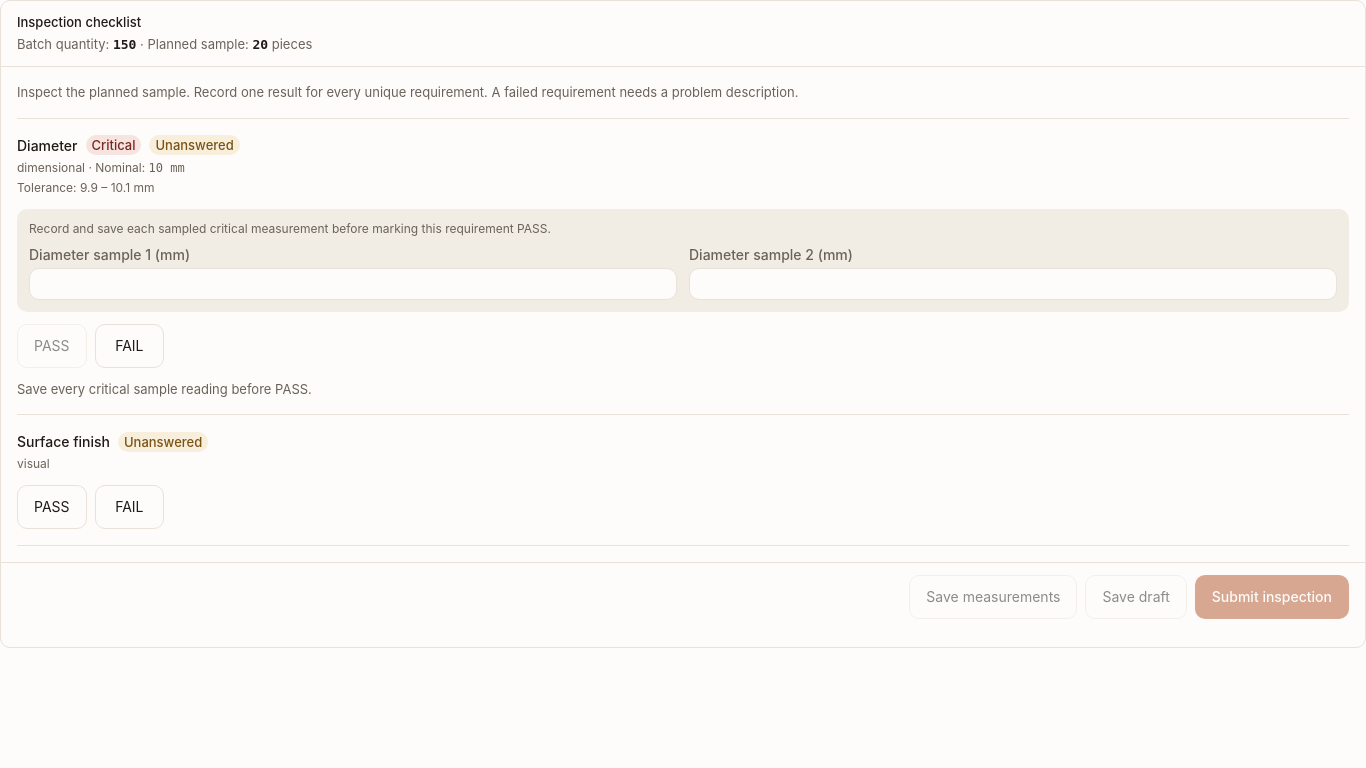
Scenario: InspectionChecklistPanel › offers one decision per unique requirement and submits only after every requirement is answered
Expected: the number of buttons "PASS " is 2, [17,324,86,368]; [17,485,86,529]
Expected: the number of buttons "FAIL " is 2, [94,324,164,368]; [94,485,164,529]
Type "10" into the number field labelled "Diameter sample 1 (mm)" at (353, 284), box [30,269,676,299]
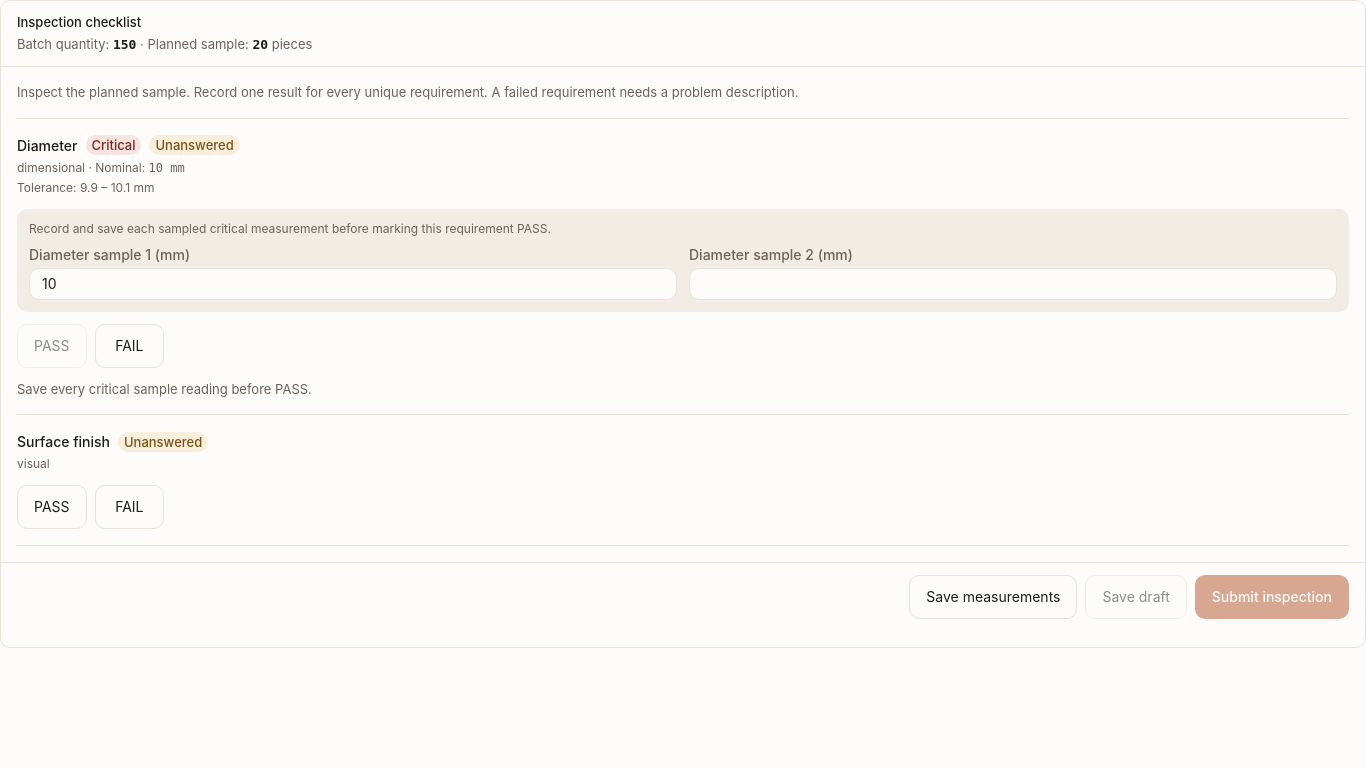
Type "10" into the number field labelled "Diameter sample 2 (mm)" at (1013, 284), box [690,269,1336,299]
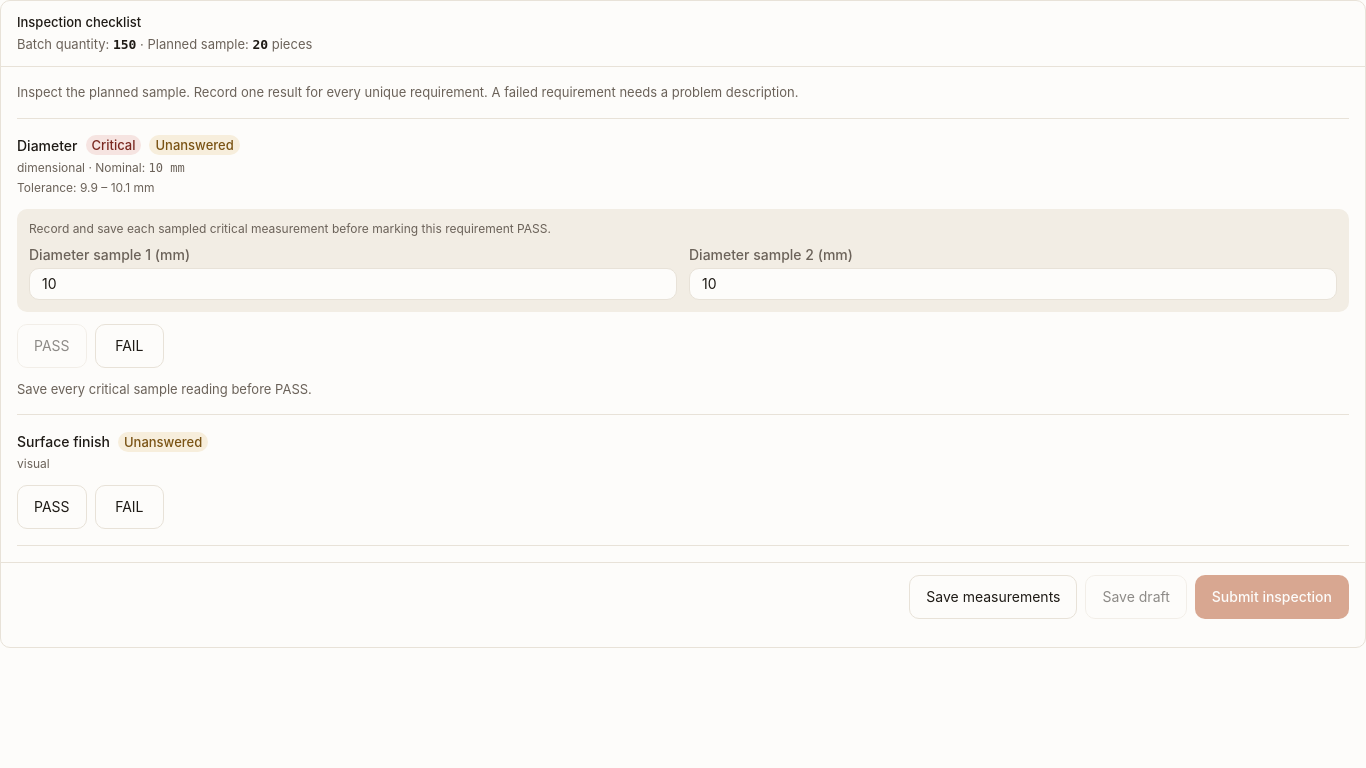
Click the button "Save measurements" at (993, 597), box [909,575,1078,619]
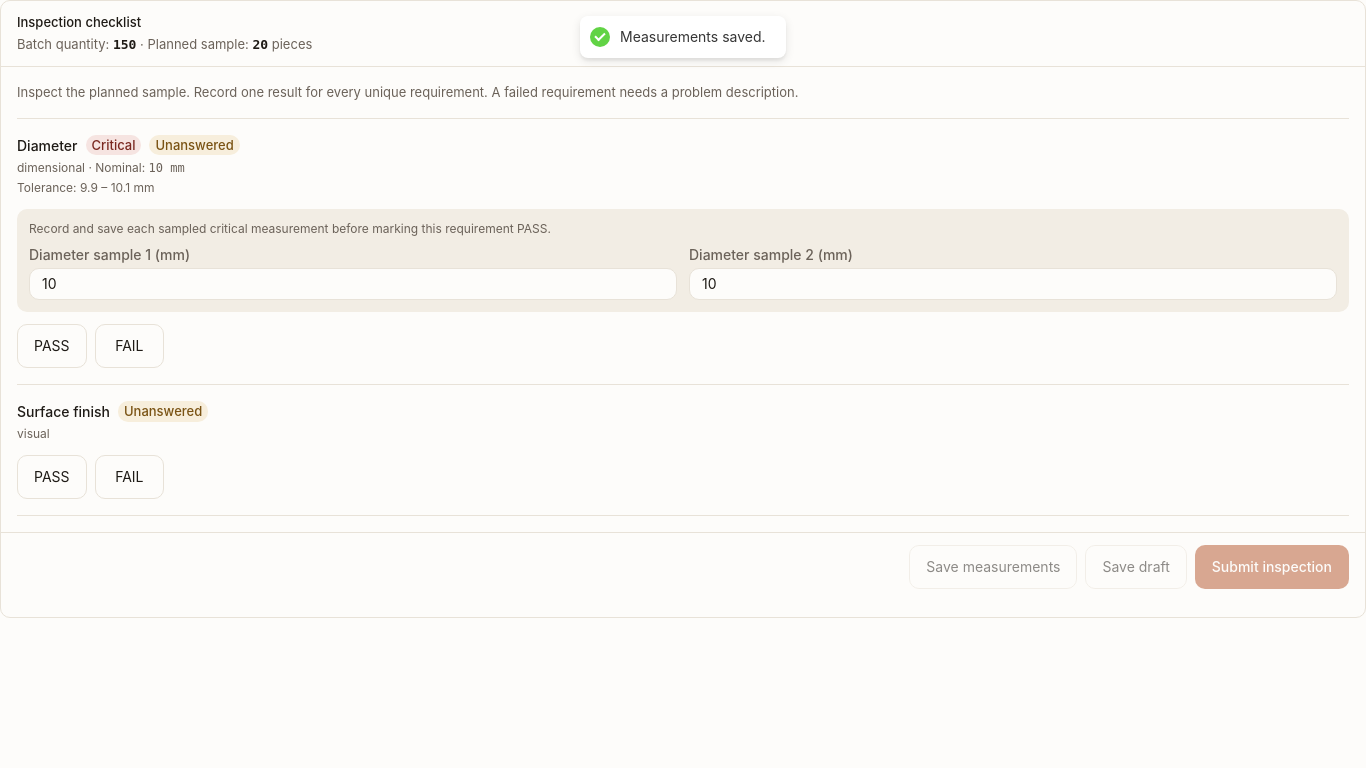
Expected: the text "Measurements saved." is shown, [620,28,766,46]
Click the button with aria-label "PASS Diameter" at (52, 346), box [17,324,86,368]
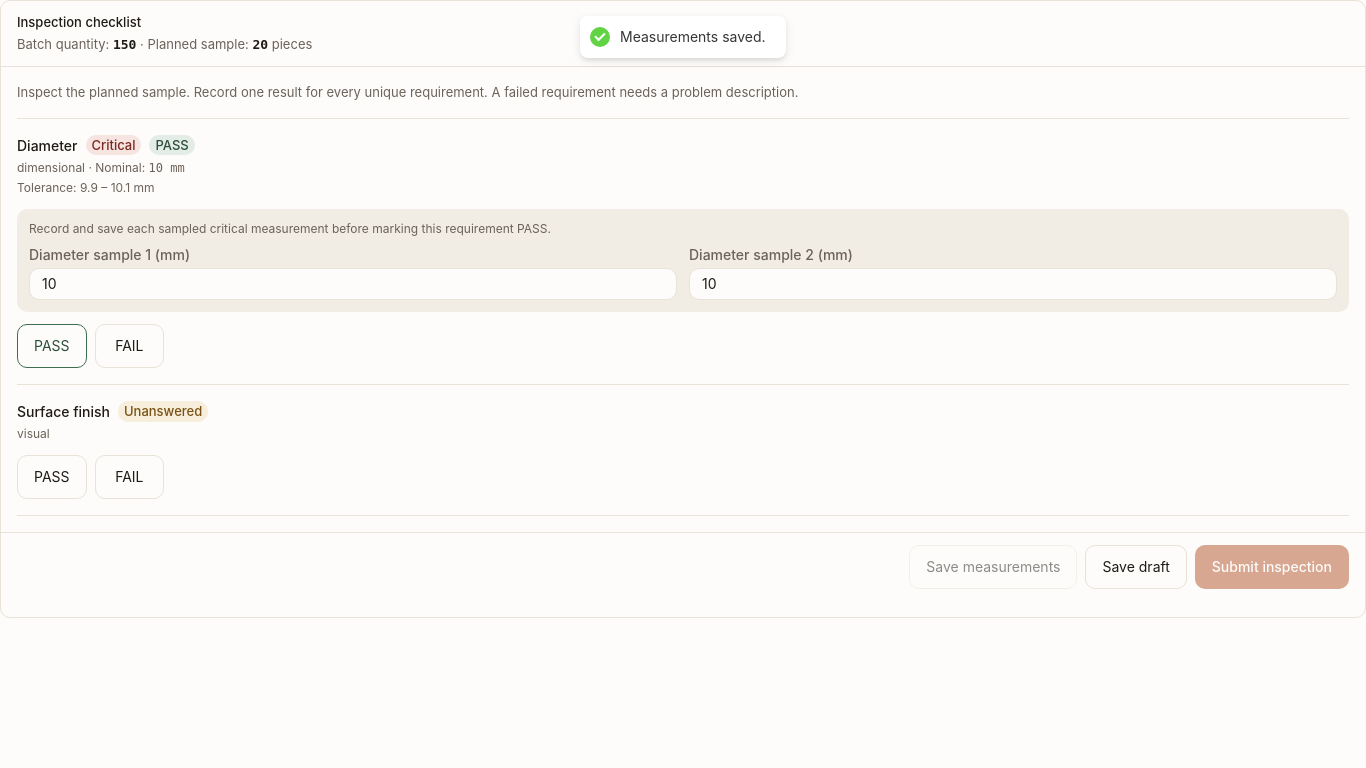
Expected: the button "Submit inspection" is disabled, [1195,545,1349,589]
Click the button with aria-label "PASS Surface finish" at (52, 477), box [17,455,86,499]
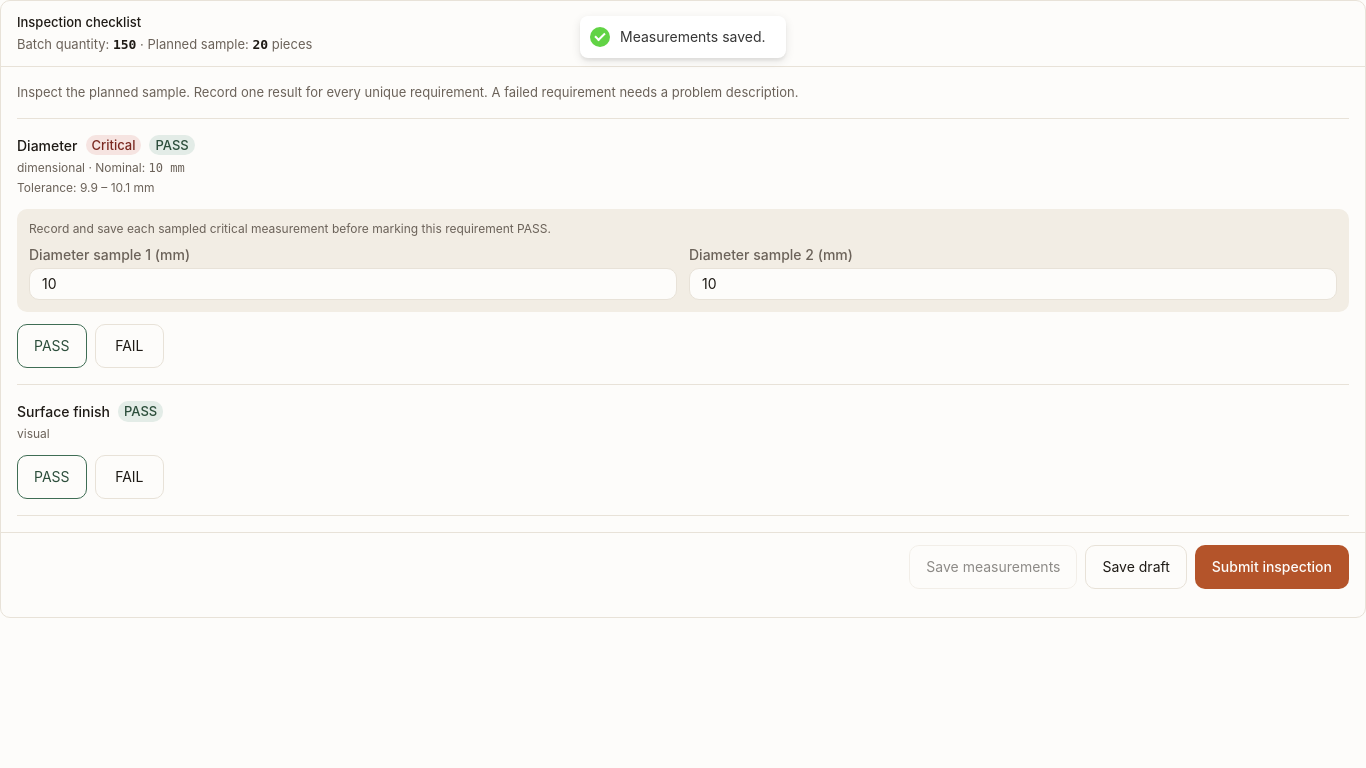
Click the button "Submit inspection" at (1272, 567), box [1195,545,1349,589]
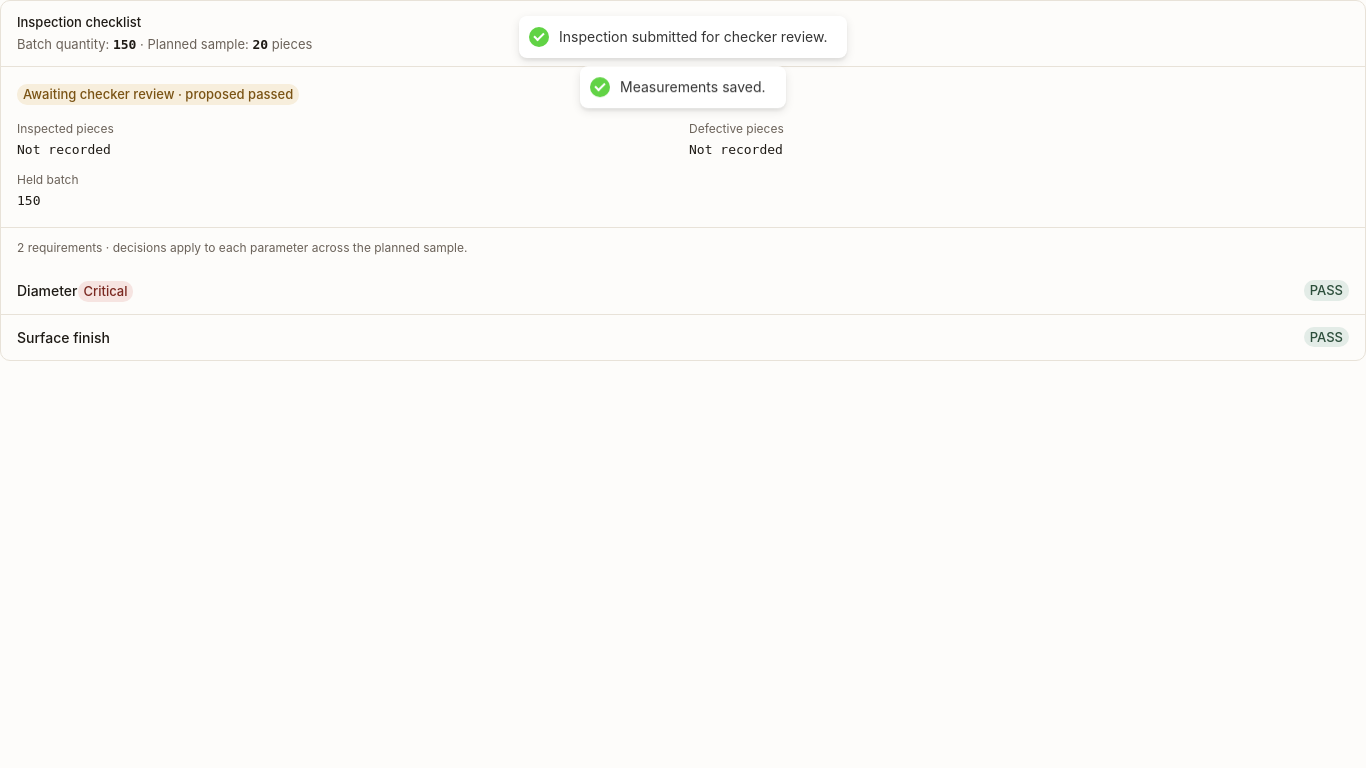
Expected: the text "Awaiting checker review · proposed passed" is shown, [17,84,299,105]
Expected: the button "Submit inspection" is gone
